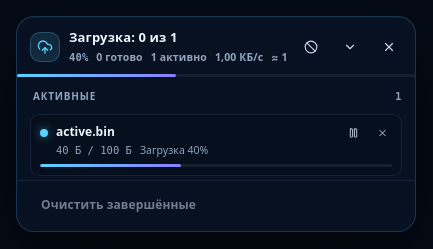
Scenario: TransferDrawer › collapses to a compact bar and keeps the overall progress
Expected: the text "40%" is shown, left=69, top=50, right=88, bottom=65
Click the button named "Свернуть очередь" at (350, 47), box left=335, top=32, right=365, bottom=62
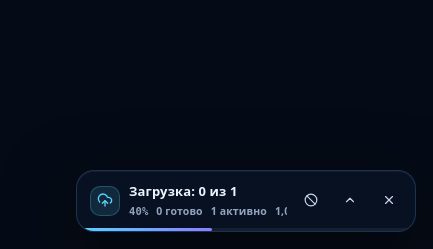
Expected: the text "40%" is shown, left=129, top=203, right=148, bottom=219
Result: the button "Очистить завершённые" is gone
